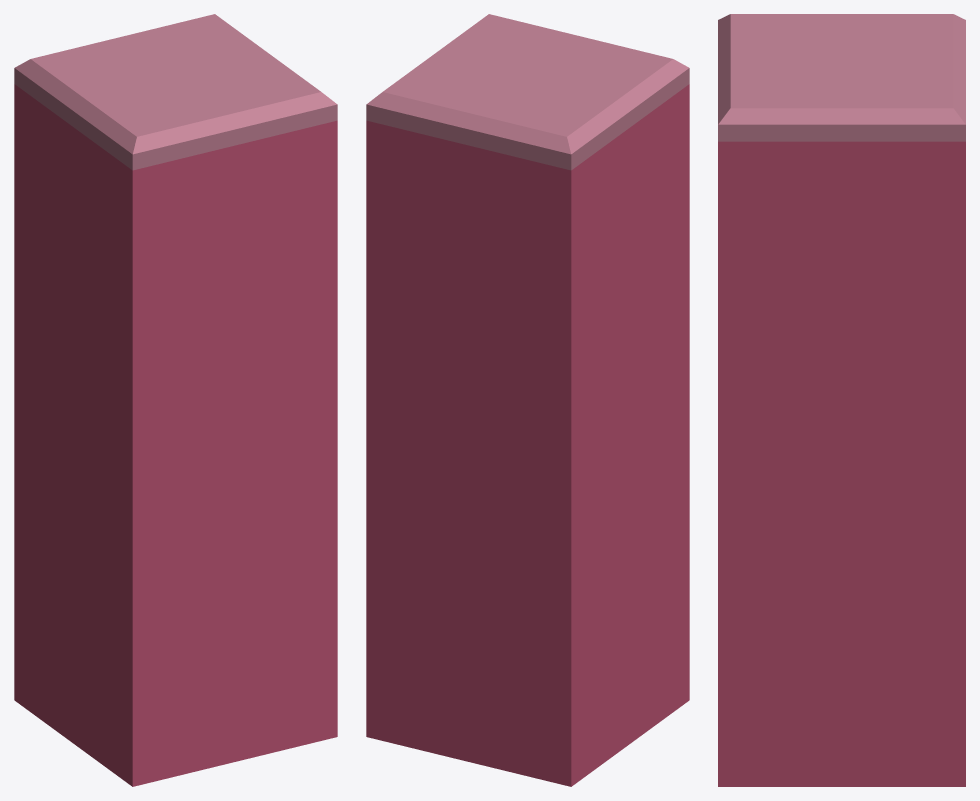
Rendered from Cliff1.fbx.
3 views of the same model, side by side, from view 1: azimuth 30°, elevation 25°; view 2: azimuth 150°, elevation 25°; view 3: azimuth 270°, elevation 25° (orthographic). The views are drawn at different scales.
Visible parts, largest first — view 1: Cube; view 2: Cube; view 3: Cube.
Part boxes in pixels (<box>): Cube: <box>14,14,337,786</box>; Cube: <box>366,14,689,786</box>; Cube: <box>718,14,965,786</box>.
Size of the model in its own units: 2 by 6 by 2.
